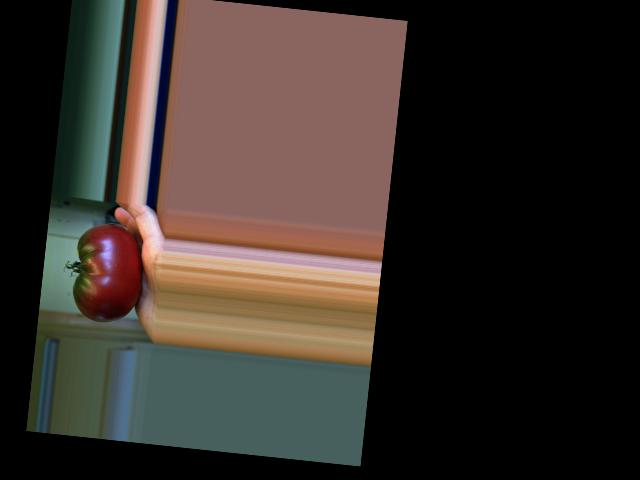tomato: (69, 221, 147, 326)
